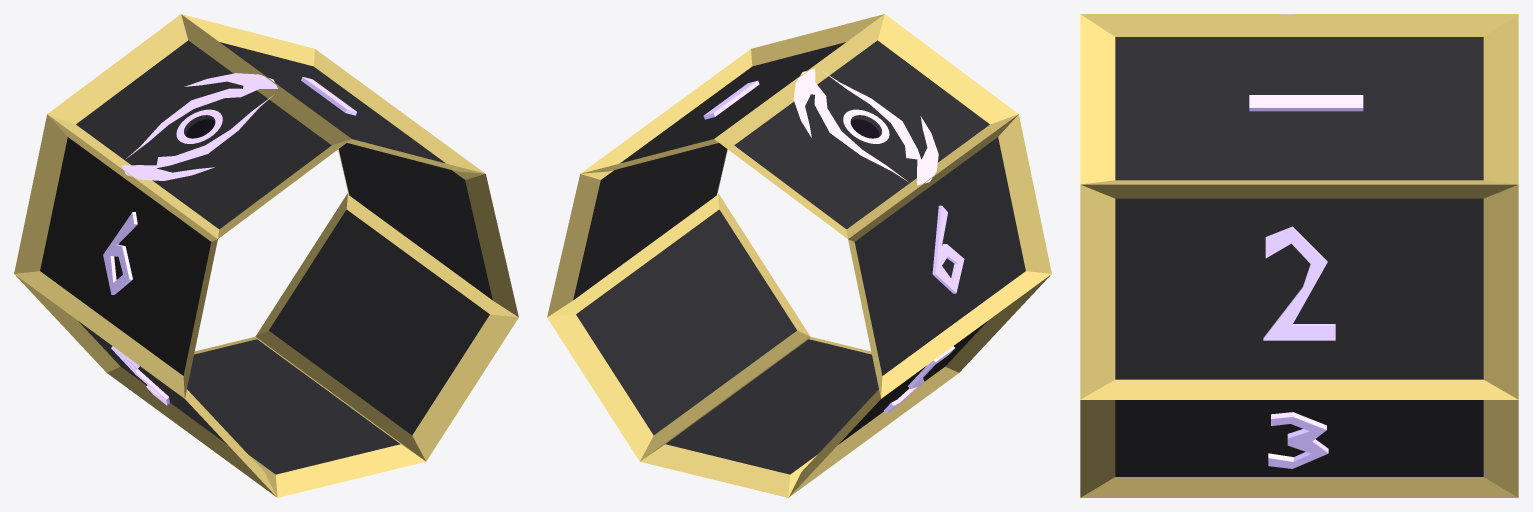
The model's file is d7_black_hole_gold.glb.
The picture shows the model from 3 angles, left to right: view 1: azimuth 30°, elevation 25°; view 2: azimuth 150°, elevation 25°; view 3: azimuth 270°, elevation 25°; orthographic projection. The views are drawn at different scales.
Visible parts, largest first — view 1: D7_Die; view 2: D7_Die; view 3: D7_Die.
Part boxes in pixels (x1,y1,x2,y2): D7_Die: (14, 14, 518, 497); D7_Die: (547, 14, 1051, 497); D7_Die: (1080, 14, 1518, 497).
Bounding box in the file's own units: 4.29 × 4.19 × 3.8.
